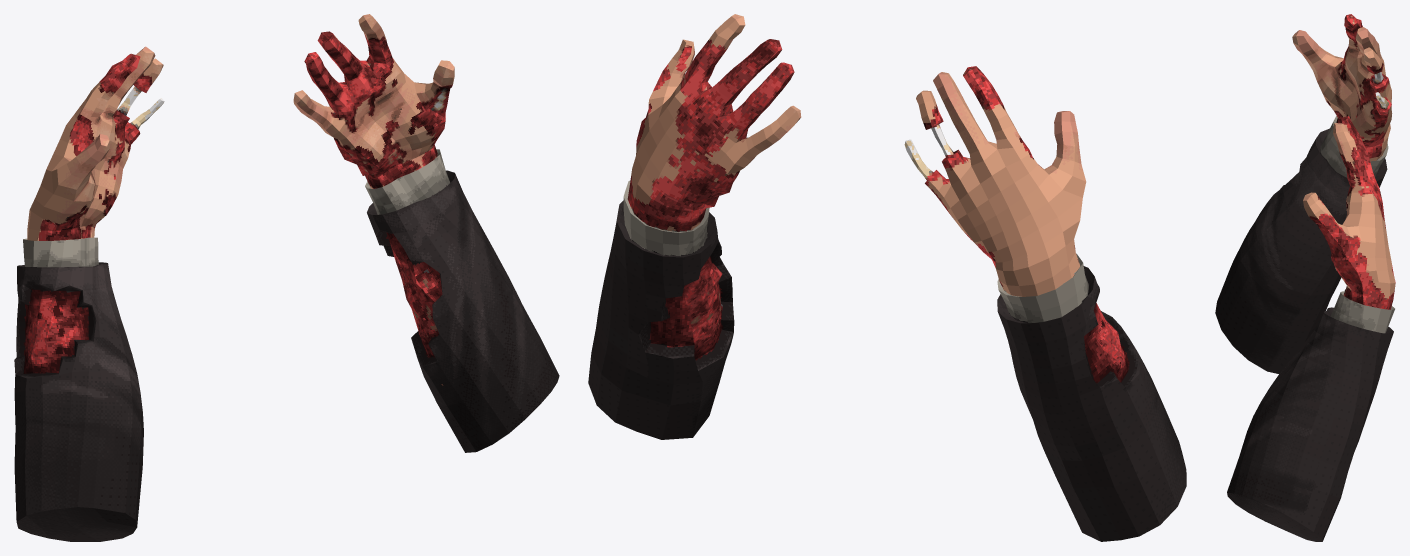
The model's file is HH_MC_Hands.fbx.
3 renders of one model, left to right at view 1: azimuth 30°, elevation 25°; view 2: azimuth 150°, elevation 25°; view 3: azimuth 270°, elevation 25°, orthographic. The views are drawn at different scales.
Visible parts, largest first — view 1: LeftHand, RightHand; view 2: LeftHand, RightHand; view 3: RightHand, LeftHand.
Boxes of the visible parts, x1=… form: LeftHand: x1=14, y1=46, x2=164, y2=541; RightHand: x1=293, y1=14, x2=559, y2=452; LeftHand: x1=904, y1=66, x2=1186, y2=541; RightHand: x1=588, y1=14, x2=801, y2=439; RightHand: x1=1227, y1=116, x2=1395, y2=541; LeftHand: x1=1215, y1=14, x2=1392, y2=373.
Bounding box in the file's own units: 2.53 × 1.99 × 0.8355.
Materials: 2 (2 with a texture image).
